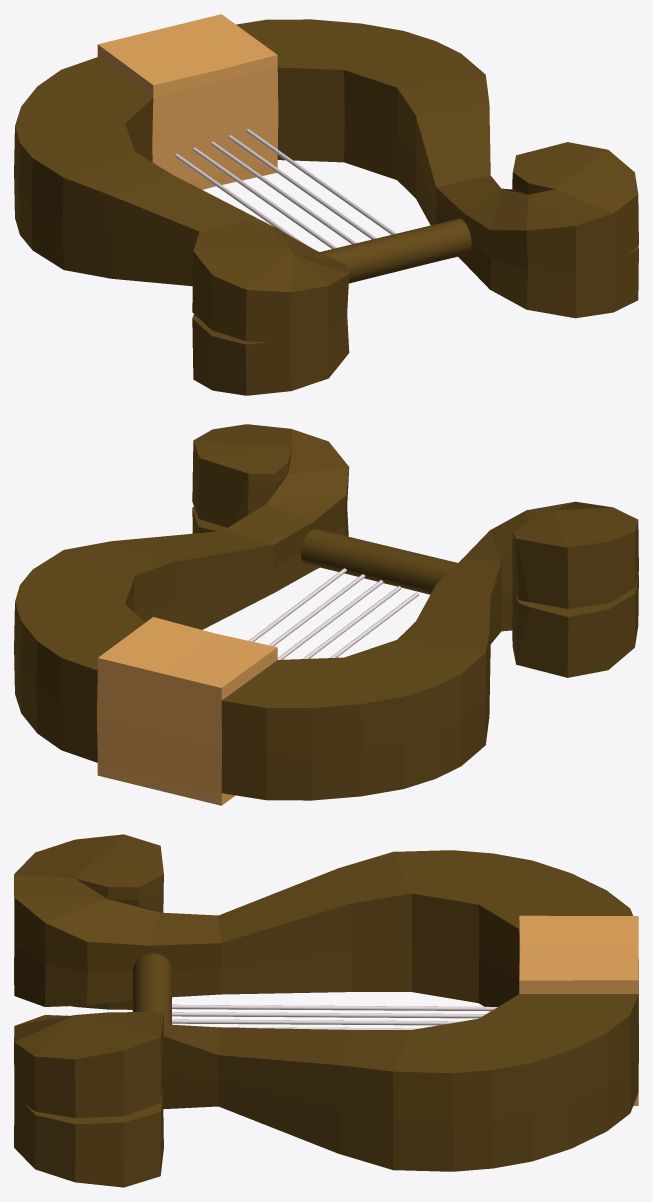
Rendered from lyre.fbx.
3 renders of one model, top to bottom at view 1: azimuth 30°, elevation 25°; view 2: azimuth 150°, elevation 25°; view 3: azimuth 270°, elevation 25°, orthographic. The views are drawn at different scales.
Visible parts, largest first — view 1: Plane, NurbsPath; view 2: Plane, NurbsPath; view 3: Plane, NurbsPath.
Boxes of the visible parts, x1,y1,x2,y2 form: Plane: [14, 14, 638, 395]; NurbsPath: [175, 129, 396, 248]; Plane: [14, 424, 638, 805]; NurbsPath: [248, 568, 419, 659]; Plane: [14, 834, 638, 1187]; NurbsPath: [172, 1004, 497, 1029].
Size of the model in its own units: 231 by 66.68 by 272.
